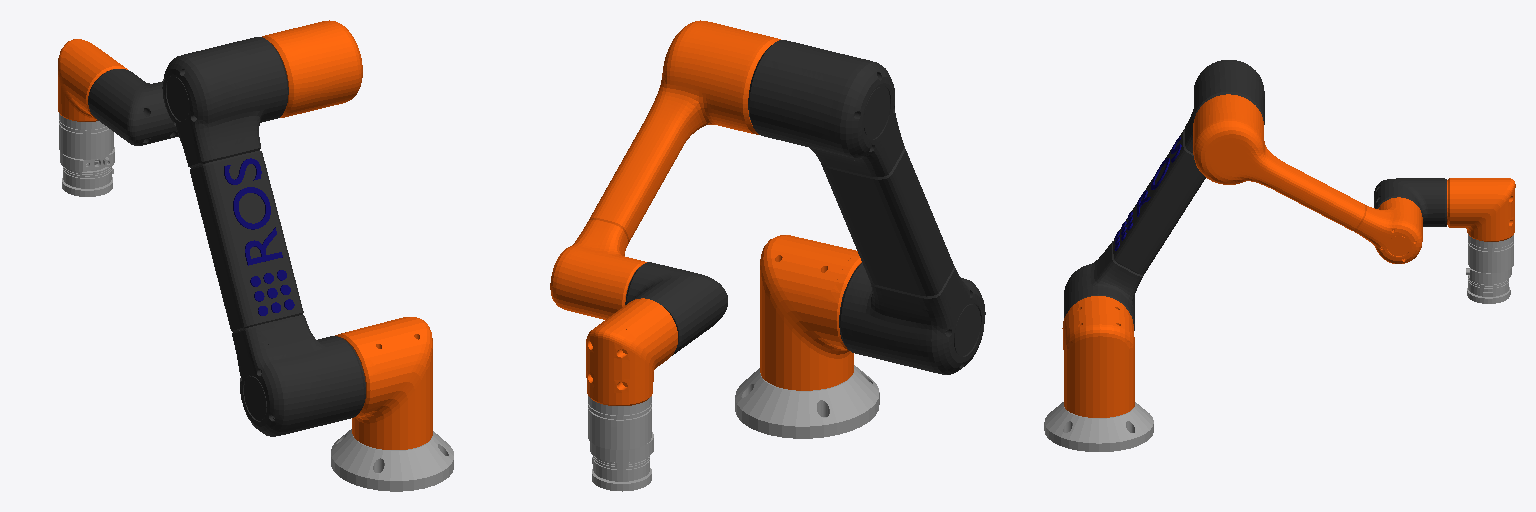
URDF robot description (r6bot):
<?xml version="1.0" ?>
<!-- =================================================================================== -->
<!-- |    This document was autogenerated by xacro from ros_arm_description/urdf/r6bot.urdf.xacro | -->
<!-- |    EDITING THIS FILE BY HAND IS NOT RECOMMENDED                                 | -->
<!-- =================================================================================== -->
<robot name="r6bot">
  <!-- create link fixed to the "world" -->
  <link name="world"/>
  <link name="base_link">
    <visual>
      <origin rpy="0 0 0" xyz="0 0 0"/>
      <geometry>
        <mesh filename="package://ros_arm_description/r6bot/meshes/visual/link_0.dae"/>
      </geometry>
    </visual>
    <collision>
      <origin rpy="0 0 0" xyz="0 0 0"/>
      <geometry>
        <mesh filename="package://ros_arm_description/r6bot/meshes/collision/link_0.stl"/>
      </geometry>
    </collision>
    <inertial>
      <mass value="1"/>
      <inertia ixx="1.0" ixy="0.0" ixz="0.0" iyy="1.0" iyz="0.0" izz="1.0"/>
    </inertial>
  </link>
  <link name="link_1">
    <visual>
      <origin rpy="0 0 0" xyz="0 0 0"/>
      <geometry>
        <mesh filename="package://ros_arm_description/r6bot/meshes/visual/link_1.dae"/>
      </geometry>
    </visual>
    <collision>
      <origin rpy="0 0 0" xyz="0 0 0"/>
      <geometry>
        <mesh filename="package://ros_arm_description/r6bot/meshes/collision/link_1.stl"/>
      </geometry>
    </collision>
    <inertial>
      <mass value="1"/>
      <inertia ixx="1.0" ixy="0.0" ixz="0.0" iyy="1.0" iyz="0.0" izz="1.0"/>
    </inertial>
  </link>
  <link name="link_2">
    <visual>
      <origin rpy="0 0 0" xyz="0 0 0"/>
      <geometry>
        <mesh filename="package://ros_arm_description/r6bot/meshes/visual/link_2.dae"/>
      </geometry>
    </visual>
    <collision>
      <origin rpy="0 0 0" xyz="0 0 0"/>
      <geometry>
        <mesh filename="package://ros_arm_description/r6bot/meshes/collision/link_2.stl"/>
      </geometry>
    </collision>
    <inertial>
      <mass value="1"/>
      <inertia ixx="1.0" ixy="0.0" ixz="0.0" iyy="1.0" iyz="0.0" izz="1.0"/>
    </inertial>
  </link>
  <link name="link_3">
    <visual>
      <origin rpy="0 0 0" xyz="0 0 0"/>
      <geometry>
        <mesh filename="package://ros_arm_description/r6bot/meshes/visual/link_3.dae"/>
      </geometry>
    </visual>
    <collision>
      <origin rpy="0 0 0" xyz="0 0 0"/>
      <geometry>
        <mesh filename="package://ros_arm_description/r6bot/meshes/collision/link_3.stl"/>
      </geometry>
    </collision>
    <inertial>
      <mass value="1"/>
      <inertia ixx="1.0" ixy="0.0" ixz="0.0" iyy="1.0" iyz="0.0" izz="1.0"/>
    </inertial>
  </link>
  <link name="link_4">
    <visual>
      <origin rpy="0 0 0" xyz="0 0 0"/>
      <geometry>
        <mesh filename="package://ros_arm_description/r6bot/meshes/visual/link_4.dae"/>
      </geometry>
    </visual>
    <collision>
      <origin rpy="0 0 0" xyz="0 0 0"/>
      <geometry>
        <mesh filename="package://ros_arm_description/r6bot/meshes/collision/link_4.stl"/>
      </geometry>
    </collision>
    <inertial>
      <mass value="1"/>
      <inertia ixx="1.0" ixy="0.0" ixz="0.0" iyy="1.0" iyz="0.0" izz="1.0"/>
    </inertial>
  </link>
  <link name="link_5">
    <visual>
      <origin rpy="0 0 0" xyz="0 0 0"/>
      <geometry>
        <mesh filename="package://ros_arm_description/r6bot/meshes/visual/link_5.dae"/>
      </geometry>
    </visual>
    <collision>
      <origin rpy="0 0 0" xyz="0 0 0"/>
      <geometry>
        <mesh filename="package://ros_arm_description/r6bot/meshes/collision/link_5.stl"/>
      </geometry>
    </collision>
    <inertial>
      <mass value="1"/>
      <inertia ixx="1.0" ixy="0.0" ixz="0.0" iyy="1.0" iyz="0.0" izz="1.0"/>
    </inertial>
  </link>
  <link name="link_6">
    <visual>
      <origin rpy="0 0 0" xyz="0 0 0"/>
      <geometry>
        <mesh filename="package://ros_arm_description/r6bot/meshes/visual/link_6.dae"/>
      </geometry>
    </visual>
    <collision>
      <origin rpy="0 0 0" xyz="0 0 0"/>
      <geometry>
        <mesh filename="package://ros_arm_description/r6bot/meshes/collision/link_6.stl"/>
      </geometry>
    </collision>
    <inertial>
      <mass value="1"/>
      <inertia ixx="1.0" ixy="0.0" ixz="0.0" iyy="1.0" iyz="0.0" izz="1.0"/>
    </inertial>
  </link>
  <link name="ft_frame"/>
  <link name="tool0"/>
  <!-- base_joint fixes base_link to the environment -->
  <joint name="base_joint" type="fixed">
    <parent link="world"/>
    <child link="base_link"/>
    <origin rpy="0 0 0" xyz="0 0 0"/>
    <axis xyz="0 0 1"/>
  </joint>
  <!-- joints - main serial chain -->
  <joint name="joint_1" type="revolute">
    <parent link="base_link"/>
    <child link="link_1"/>
    <origin rpy="0 0 0" xyz="0 0 0.061584"/>
    <axis xyz="0 0 1"/>
    <limit effort="1000.0" lower="-3.141592653589793" upper="3.141592653589793" velocity="2.5"/>
  </joint>
  <joint name="joint_2" type="revolute">
    <parent link="link_1"/>
    <child link="link_2"/>
    <origin rpy="-1.5707963267948966 -1.0471975511965976 1.5707963267948966" xyz="-0.101717 0 0.182284"/>
    <axis xyz="0 0 1"/>
    <limit effort="1000.0" lower="-3.141592653589793" upper="3.141592653589793" velocity="2.5"/>
  </joint>
  <joint name="joint_3" type="revolute">
    <parent link="link_2"/>
    <child link="link_3"/>
    <origin rpy="0 3.141592653589793 4.71238898038469" xyz="0.685682 0 0.041861"/>
    <axis xyz="0 0 1"/>
    <limit effort="1000.0" lower="-3.141592653589793" upper="3.141592653589793" velocity="2.5"/>
  </joint>
  <joint name="joint_4" type="revolute">
    <parent link="link_3"/>
    <child link="link_4"/>
    <origin rpy="0 3.141592653589793 3.665191429188092" xyz="0.518777 0 0.067458"/>
    <axis xyz="0 0 1"/>
    <limit effort="1000.0" lower="-3.141592653589793" upper="3.141592653589793" velocity="2.5"/>
  </joint>
  <joint name="joint_5" type="revolute">
    <parent link="link_4"/>
    <child link="link_5"/>
    <origin rpy="1.5707963267948966 3.141592653589793 1.5707963267948966" xyz="0.112654 0 0.110903"/>
    <axis xyz="0 0 1"/>
    <limit effort="1000.0" lower="-3.141592653589793" upper="3.141592653589793" velocity="2.5"/>
  </joint>
  <joint name="joint_6" type="revolute">
    <parent link="link_5"/>
    <child link="link_6"/>
    <origin rpy="0 -1.5707963267948966 0" xyz="-0.085976 0 0.133436"/>
    <axis xyz="0 0 1"/>
    <limit effort="1000.0" lower="-3.141592653589793" upper="3.141592653589793" velocity="2.5"/>
  </joint>
  <joint name="joint-ft_frame" type="fixed">
    <parent link="link_6"/>
    <child link="ft_frame"/>
    <origin rpy="0 0 0" xyz="0 0 0"/>
  </joint>
  <joint name="joint-tool" type="fixed">
    <parent link="ft_frame"/>
    <child link="tool0"/>
    <origin rpy="0 0 0" xyz="0 0 .185"/>
  </joint>
  <!-- <xacro:include filename="$(find ros_arm_description)/urdf/ros2_control.xacro"/> -->
</robot>

--- Facts derived from the render (not from the file) ---
3 views of the same robot in one strip: view 1: azimuth 30°, elevation 25°; view 2: azimuth 150°, elevation 25°; view 3: azimuth 270°, elevation 25° (orthographic).
Model r6bot with 10 links and 9 joints (6 revolute, 3 fixed), rooted at world, posed every joint at zero.
Links seen in each view (by area): view 1: link_2, link_1, link_3, base_link, link_4, link_6, link_5; view 2: link_2, link_3, link_1, link_5, base_link, link_6, link_4; view 3: link_3, link_2, link_1, link_5, base_link, link_6, link_4.
Link boxes in pixels (box(x1,y1,x2,y2)): link_2: box(162, 37, 365, 436); link_1: box(335, 317, 432, 449); link_3: box(262, 20, 362, 117); base_link: box(331, 429, 453, 491); link_4: box(88, 69, 178, 145); link_6: box(59, 113, 114, 196); link_5: box(58, 39, 127, 121); link_2: box(748, 40, 985, 374); link_3: box(550, 20, 780, 319); link_1: box(760, 235, 861, 390); link_5: box(586, 298, 677, 405); base_link: box(735, 365, 879, 438); link_6: box(588, 396, 653, 491); link_4: box(625, 262, 727, 355); link_3: box(1193, 94, 1422, 263); link_2: box(1064, 60, 1264, 330); link_1: box(1062, 296, 1134, 417); link_5: box(1447, 178, 1515, 241); base_link: box(1044, 402, 1153, 451); link_6: box(1466, 234, 1513, 303); link_4: box(1374, 178, 1446, 226).
Size in the robot's own frame: 0.4887 by 1.25 by 0.9335 metres.
Meshes: 7 distinct files referenced, 7 mesh visuals loaded (7 Collada DAE).